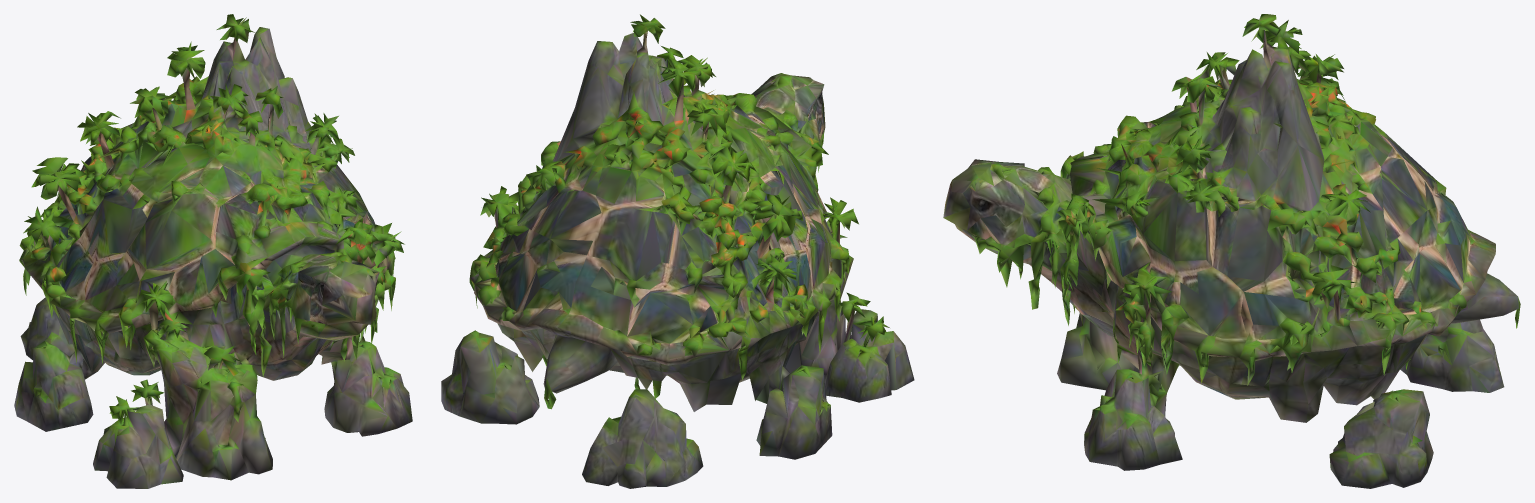
File: turtle_island.glb
3 renders of one model, left to right at view 1: azimuth 30°, elevation 25°; view 2: azimuth 150°, elevation 25°; view 3: azimuth 270°, elevation 25°, orthographic. The views are drawn at different scales.
Visible parts, largest first — view 1: Model; view 2: Model; view 3: Model.
Boxes of the visible parts, x1,y1,x2,y2 form: Model: (14, 14, 412, 488); Model: (441, 14, 914, 488); Model: (943, 14, 1520, 488).
Size of the model in its own units: 43.53 by 45.76 by 60.
Materials: 1 (1 with a texture image).
